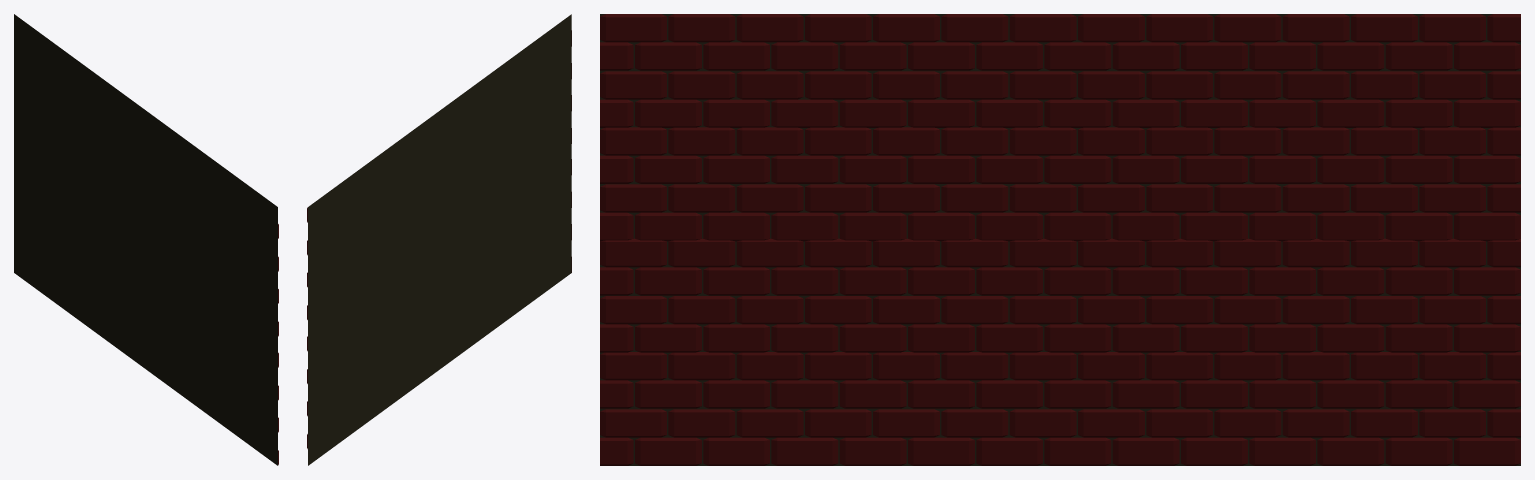
The model's file is brick wall.obj.
3 views of the same model, side by side, from view 1: azimuth 30°, elevation 25°; view 2: azimuth 150°, elevation 25°; view 3: azimuth 270°, elevation 25° (orthographic). The views are drawn at different scales.
Parts seen in each view (by area): view 1: Plane; view 2: Plane; view 3: Cube, Plane.
Boxes of the visible parts, x1,y1,x2,y2 form: Plane: (14,14,277,465); Plane: (308,14,571,465); Cube: (600,14,1520,465); Plane: (600,14,1520,465).
Size of the model in its own units: 0.0118 by 3.14 by 5.79.
